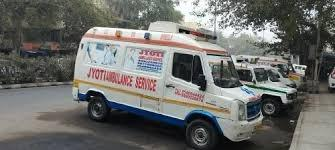AMBULANCE: (76, 25, 264, 150)
